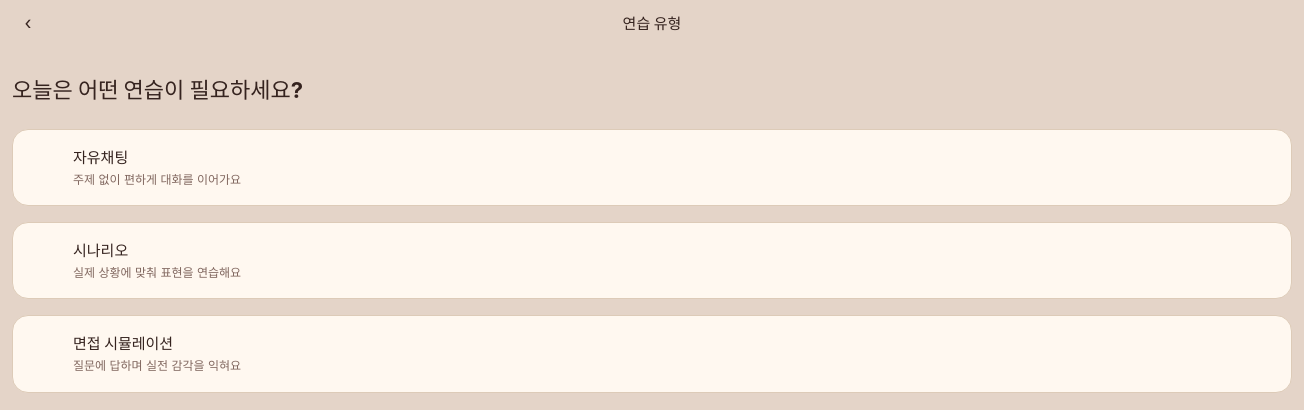
Test: 긴 시나리오 설명에서는 마지막 달성 목표를 짧게 분리해 강조한다
Click the button "시나리오 실제 상황에 맞춰 표현을 연습해요": [101, 251] box top-left (12, 222), bottom-right (1292, 299)
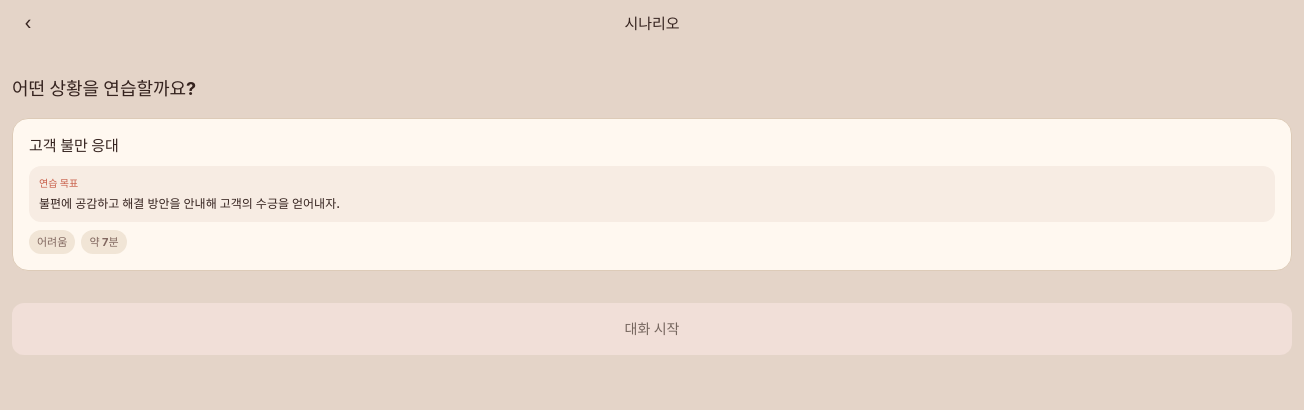
Now the text "연습 목표" is shown, box top-left (39, 177), bottom-right (78, 189)
Now the text "불편에 공감하고 해결 방안을 안내해 고객의 수긍을 얻어내자." is shown, box top-left (39, 196), bottom-right (340, 211)
